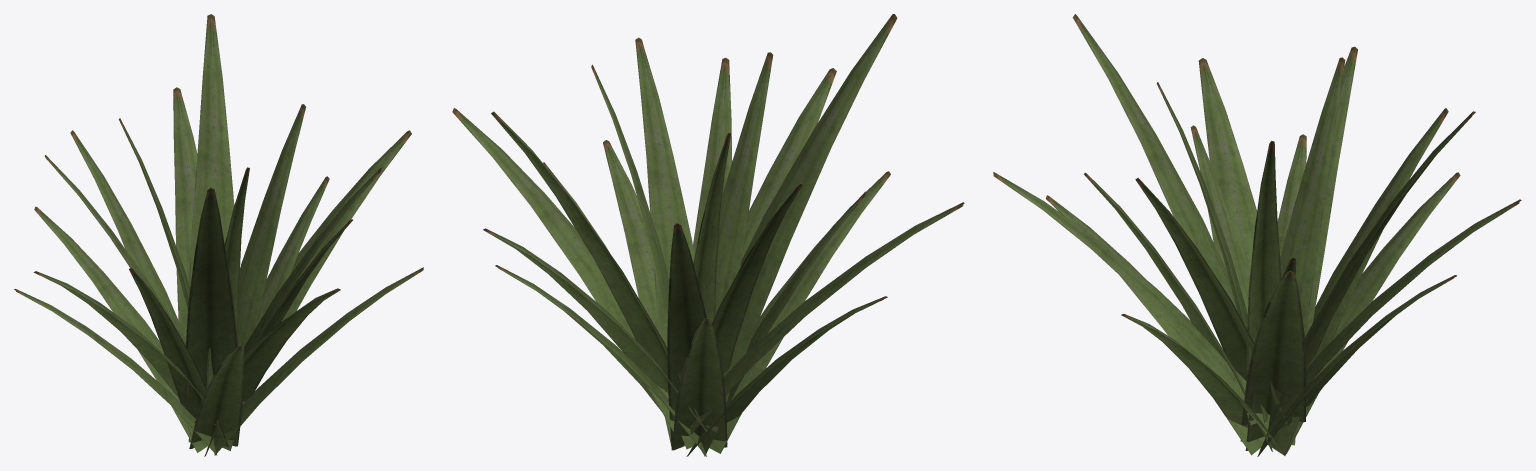
Rendered from AgaveLechugilla.FBX.
3 views of the same model, side by side, from view 1: azimuth 30°, elevation 25°; view 2: azimuth 150°, elevation 25°; view 3: azimuth 270°, elevation 25° (orthographic). The views are drawn at different scales.
Visible parts, largest first — view 1: Agave_Lechugilla_LOD0; view 2: Agave_Lechugilla_LOD0; view 3: Agave_Lechugilla_LOD0.
Part boxes in pixels (box(x1,y1,x2,y2)): Agave_Lechugilla_LOD0: box(14, 14, 423, 456); Agave_Lechugilla_LOD0: box(452, 14, 964, 456); Agave_Lechugilla_LOD0: box(993, 14, 1521, 456).
Size of what is drawn, in the model's own units: 64.71 by 51.31 by 63.71.
